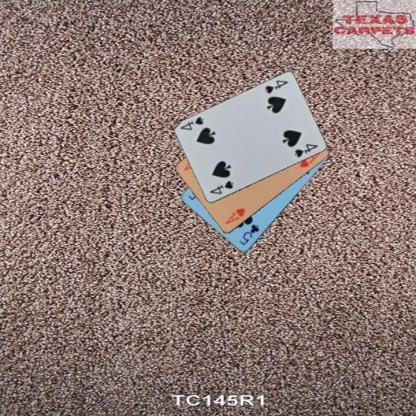4s: (208, 178, 235, 196), (262, 78, 289, 96)
5c: (236, 222, 261, 247)
Ah: (223, 206, 247, 225)
